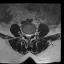CCS_normal: (27, 31, 29, 40)
LFS_normal: (31, 30, 33, 37)
LLS_normal: (29, 31, 31, 39)
RFS_normal: (23, 30, 25, 37)
RLS_normal: (25, 31, 27, 38)
